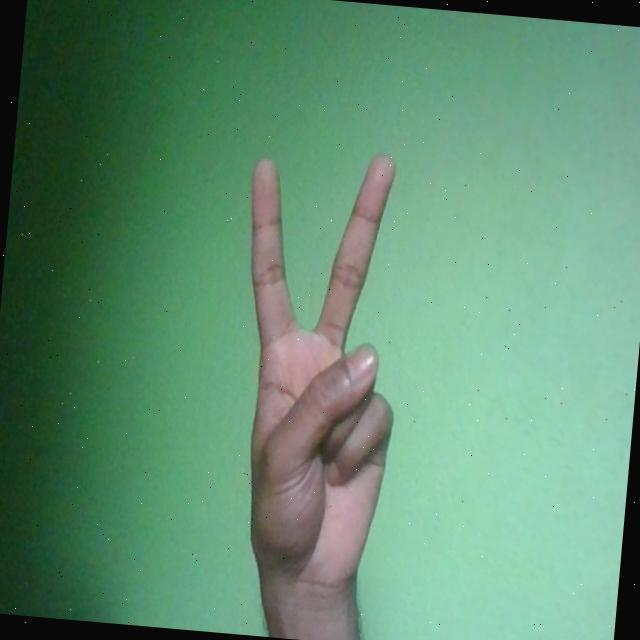Fist: (216, 140, 415, 600)
